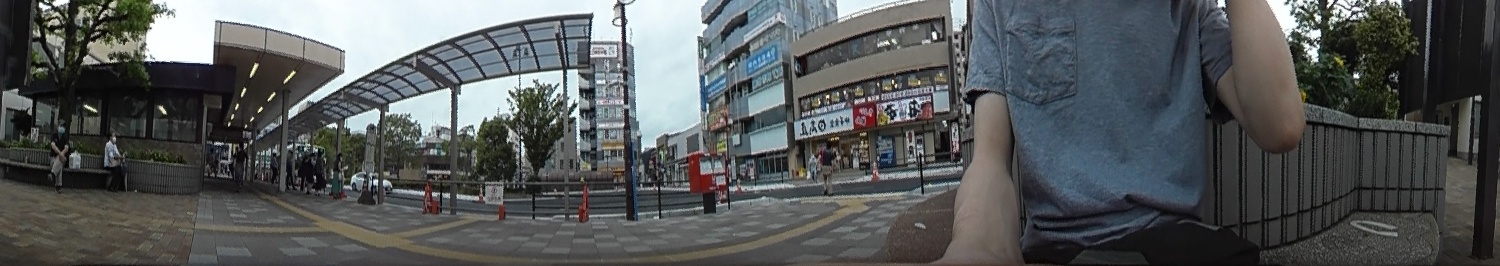difficult_person: (822, 144, 835, 195), (331, 152, 344, 196), (234, 143, 245, 193), (315, 147, 326, 191), (285, 149, 295, 190), (269, 151, 278, 184)
person: (51, 120, 72, 189), (103, 132, 126, 189)
